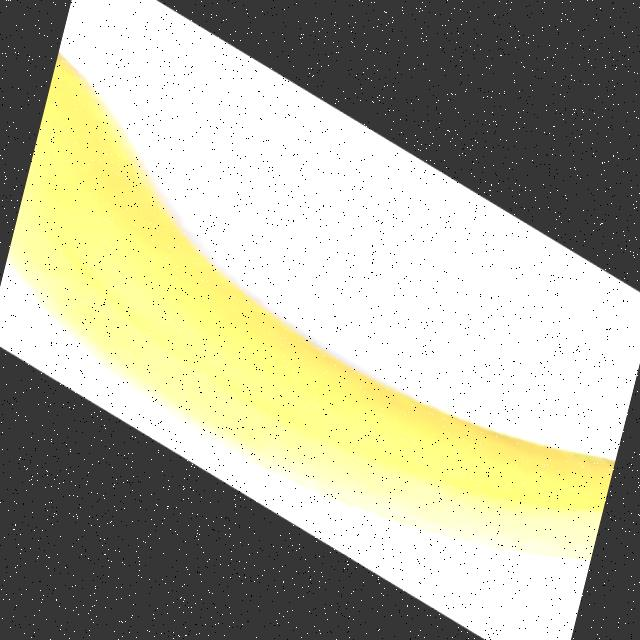banana: (0, 51, 640, 575)
